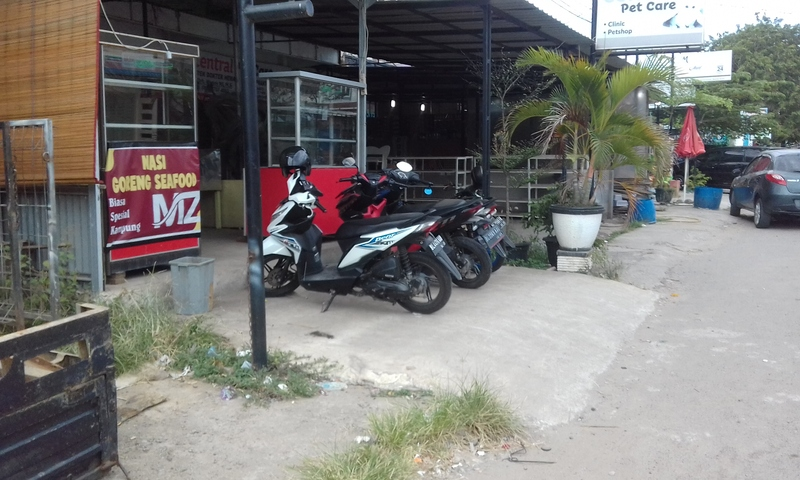car: (726, 145, 800, 234)
motorcycle: (247, 159, 465, 317), (335, 154, 507, 294)
